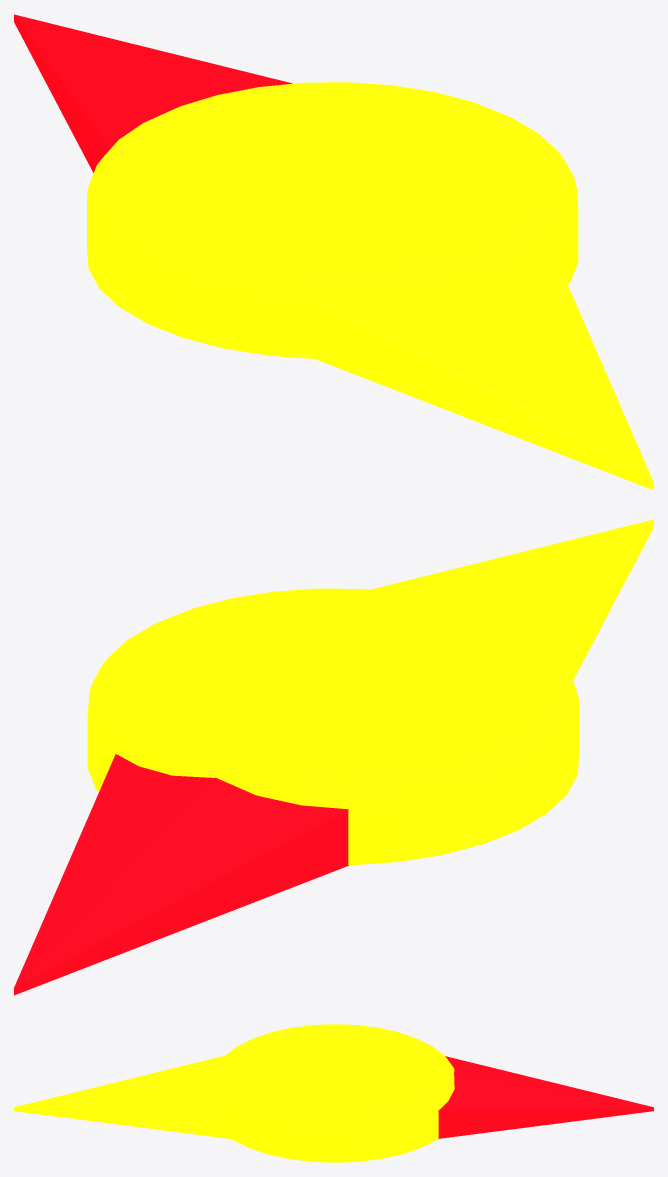
File: compass_yellow.fbx
3 renders of one model, top to bottom at view 1: azimuth 30°, elevation 25°; view 2: azimuth 150°, elevation 25°; view 3: azimuth 270°, elevation 25°, orthographic. The views are drawn at different scales.
Parts seen in each view (by area): view 1: Cube; view 2: Cube; view 3: Cube.
Boxes of the visible parts, x1,y1,x2,y2 form: Cube: (14,14,653,490); Cube: (14,519,653,995); Cube: (14,1024,653,1162).
Size of the model in its own units: 303 by 53.29 by 788.
